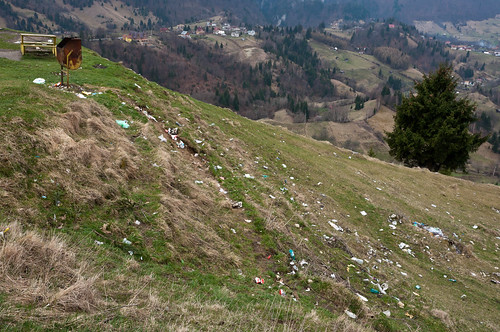trash: (53, 86, 500, 331)
trash can: (52, 36, 90, 83)
tree: (391, 68, 479, 176)
